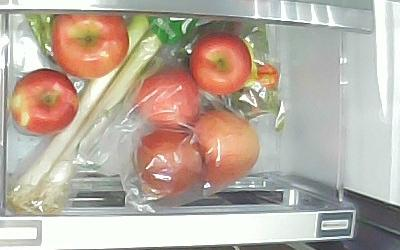apple: (52, 15, 129, 78), (12, 69, 79, 135), (189, 33, 253, 97)
apple_vinyl: (193, 111, 259, 185), (135, 127, 203, 197), (133, 67, 201, 127)
